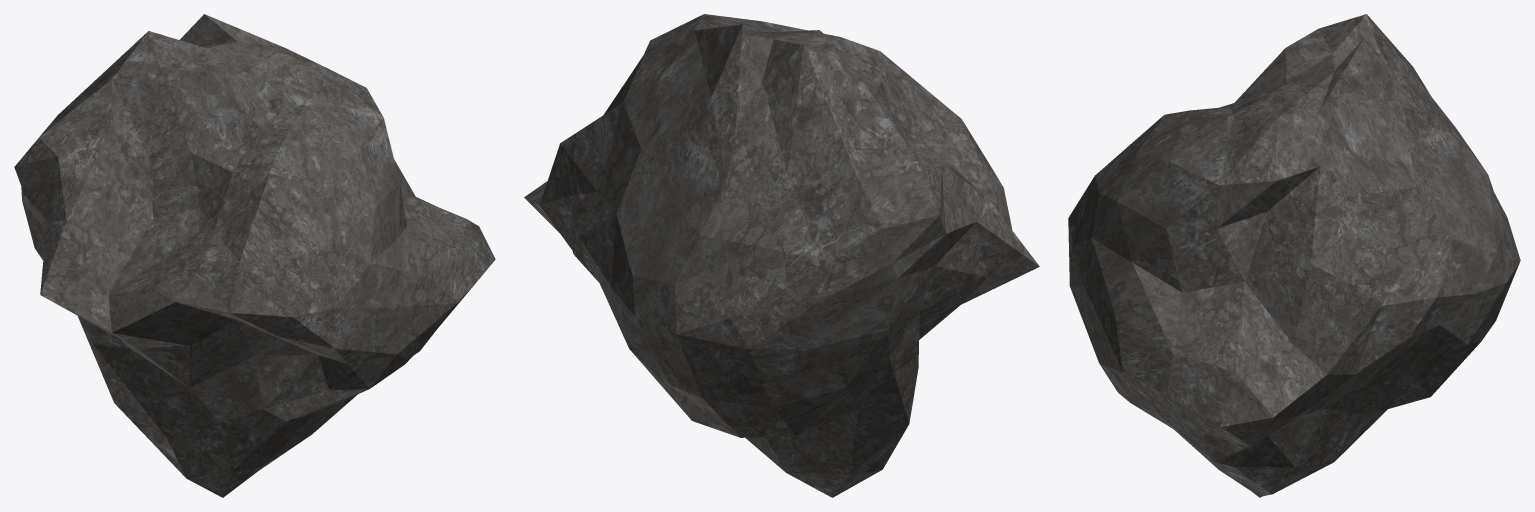
Rendered from SNSS_Lmain_Asteroid004.fbx.
3 renders of one model, left to right at view 1: azimuth 30°, elevation 25°; view 2: azimuth 150°, elevation 25°; view 3: azimuth 270°, elevation 25°, orthographic. The views are drawn at different scales.
Visible parts, largest first — view 1: Asteriod_04, Asteriod_005_Part_1, Asteriod_005_Part_19, Asteriod_005_Part_2, Asteriod_005_Part_4, Asteriod_005_Part_5, Asteriod_005_Part_18, Asteriod_005_Part_10, Asteriod_005_Part_12, Asteriod_005_Part_13, Asteriod_005_Part_16, Asteriod_005_Part_15 (+3 smaller); view 2: Asteriod_04, Asteriod_005_Part_16, Asteriod_005_Part_17, Asteriod_005_Part_7, Asteriod_005_Part_1, Asteriod_005_Part_14, Asteriod_005_Part_3, Asteriod_005_Part_20, Asteriod_005_Part_10, Asteriod_005_Part_11, Asteriod_005_Part_18, Asteriod_005_Part_2 (+2 smaller); view 3: Asteriod_04, Asteriod_005_Part_15, Asteriod_005_Part_11, Asteriod_005_Part_13, Asteriod_005_Part_16, Asteriod_005_Part_4, Asteriod_005_Part_14, Asteriod_005_Part_2, Asteriod_005_Part_20, Asteriod_005_Part_9, Asteriod_005_Part_19.
Boxes of the visible parts, left/top/right/bottom form: Asteriod_04: left=14, top=14, right=494, bottom=497; Asteriod_005_Part_1: left=18, top=88, right=204, bottom=329; Asteriod_005_Part_19: left=210, top=167, right=395, bottom=335; Asteriod_005_Part_2: left=148, top=53, right=359, bottom=228; Asteriod_005_Part_4: left=271, top=217, right=484, bottom=412; Asteriod_005_Part_5: left=133, top=321, right=307, bottom=452; Asteriod_005_Part_18: left=108, top=388, right=254, bottom=486; Asteriod_005_Part_10: left=94, top=355, right=217, bottom=430; Asteriod_005_Part_12: left=131, top=227, right=233, bottom=333; Asteriod_005_Part_13: left=360, top=135, right=495, bottom=272; Asteriod_005_Part_16: left=81, top=15, right=281, bottom=95; Asteriod_005_Part_15: left=311, top=60, right=495, bottom=258; Asteriod_04: left=524, top=14, right=1039, bottom=497; Asteriod_005_Part_16: left=661, top=25, right=874, bottom=237; Asteriod_005_Part_17: left=706, top=121, right=929, bottom=324; Asteriod_005_Part_7: left=680, top=309, right=897, bottom=425; Asteriod_005_Part_1: left=871, top=104, right=1038, bottom=280; Asteriod_005_Part_14: left=577, top=79, right=670, bottom=355; Asteriod_005_Part_3: left=808, top=278, right=1015, bottom=414; Asteriod_005_Part_20: left=625, top=170, right=711, bottom=403; Asteriod_005_Part_10: left=725, top=385, right=914, bottom=452; Asteriod_005_Part_11: left=525, top=106, right=617, bottom=229; Asteriod_005_Part_18: left=796, top=411, right=911, bottom=496; Asteriod_005_Part_2: left=707, top=15, right=922, bottom=136; Asteriod_04: left=1068, top=14, right=1520, bottom=497; Asteriod_005_Part_15: left=1188, top=108, right=1360, bottom=427; Asteriod_005_Part_11: left=1244, top=203, right=1430, bottom=444; Asteriod_005_Part_13: left=1141, top=159, right=1238, bottom=444; Asteriod_005_Part_16: left=1308, top=16, right=1487, bottom=174; Asteriod_005_Part_4: left=1068, top=224, right=1235, bottom=460; Asteriod_005_Part_14: left=1358, top=142, right=1493, bottom=378; Asteriod_005_Part_2: left=1143, top=35, right=1322, bottom=167; Asteriod_005_Part_20: left=1428, top=170, right=1519, bottom=375; Asteriod_005_Part_9: left=1213, top=374, right=1447, bottom=469; Asteriod_005_Part_19: left=1068, top=134, right=1155, bottom=244.
Size of the model in its own units: 875 by 831 by 716.
